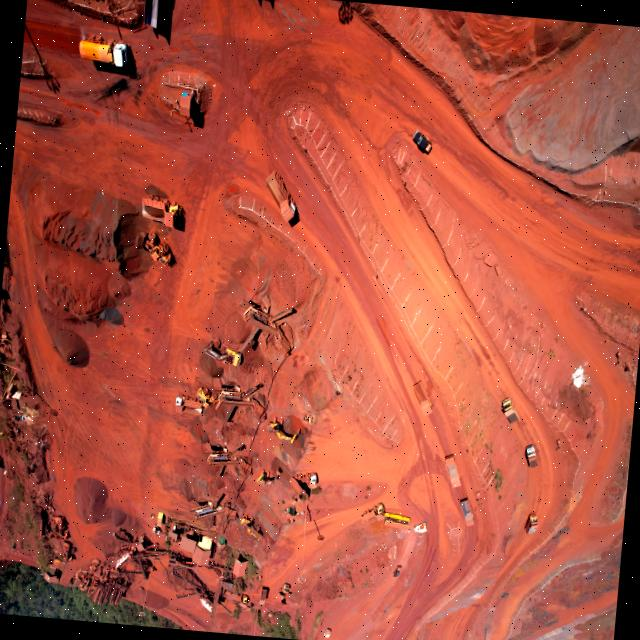Blast rig: (243, 301, 269, 325)
Dumper truck: (262, 170, 299, 223), (440, 452, 466, 487), (410, 380, 434, 412), (288, 471, 318, 496), (157, 201, 181, 226), (1, 384, 25, 408), (458, 498, 476, 526), (501, 398, 520, 422), (360, 503, 385, 521), (522, 441, 541, 464), (142, 203, 166, 221), (221, 385, 242, 402), (198, 388, 217, 406), (228, 594, 250, 606), (278, 583, 290, 604), (525, 514, 537, 534), (232, 352, 244, 366), (174, 393, 183, 407)
Excavator: (264, 414, 300, 444), (239, 516, 262, 544), (255, 464, 281, 488), (210, 444, 229, 462), (222, 384, 242, 398)
car: (413, 134, 431, 152), (414, 522, 426, 534), (322, 626, 332, 639), (392, 566, 402, 577)
person: (149, 512, 152, 518), (151, 512, 154, 518)
